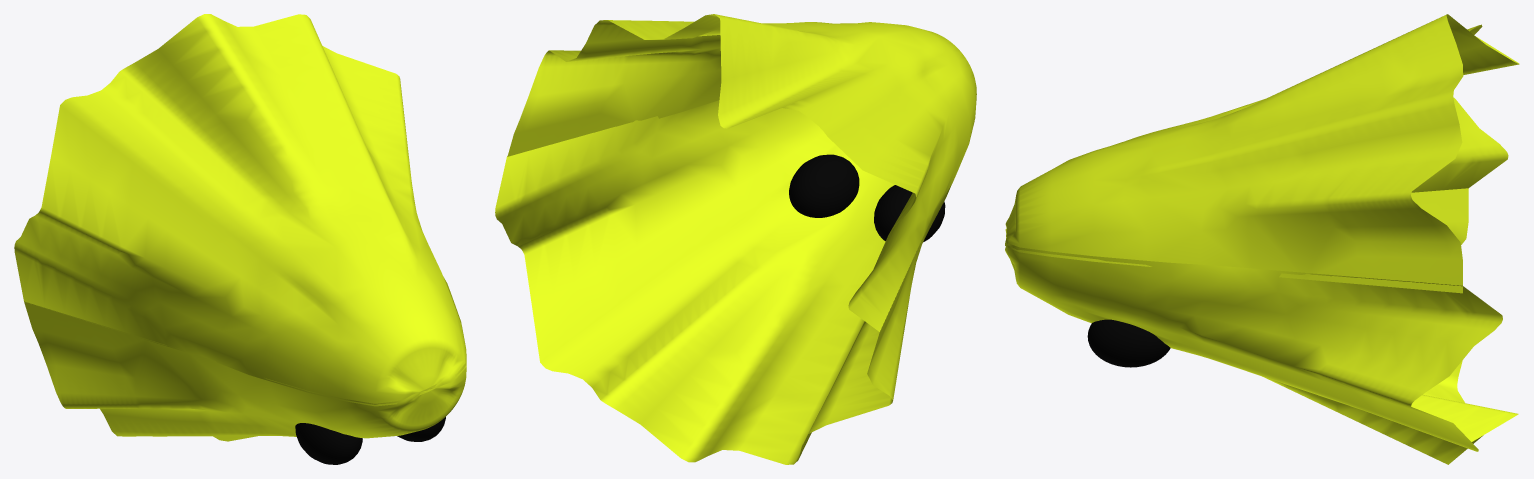
Rendered from pacman.dae.
The picture shows the model from 3 angles, left to right: view 1: azimuth 30°, elevation 25°; view 2: azimuth 150°, elevation 25°; view 3: azimuth 270°, elevation 25°; orthographic projection. The views are drawn at different scales.
Visible parts, largest first — view 1: nurbsToPoly3, nurbsToPoly2, pSphere2, pSphere3; view 2: nurbsToPoly2, nurbsToPoly3, pSphere3, pSphere2; view 3: nurbsToPoly3, nurbsToPoly2, pSphere3.
Boxes of the visible parts, bbox=[...] form: nurbsToPoly3: bbox=[14, 14, 466, 406]; nurbsToPoly2: bbox=[24, 276, 466, 441]; pSphere2: bbox=[295, 423, 362, 464]; pSphere3: bbox=[397, 417, 445, 441]; nurbsToPoly2: bbox=[495, 100, 976, 464]; nurbsToPoly3: bbox=[507, 14, 976, 331]; pSphere3: bbox=[789, 154, 859, 217]; pSphere2: bbox=[874, 185, 945, 241]; nurbsToPoly3: bbox=[1005, 14, 1519, 293]; nurbsToPoly2: bbox=[1005, 188, 1518, 464]; pSphere3: bbox=[1087, 319, 1170, 367].
Size of the model in its own units: 0.9218 by 1.01 by 1.08.
2 materials, 2 textured.
